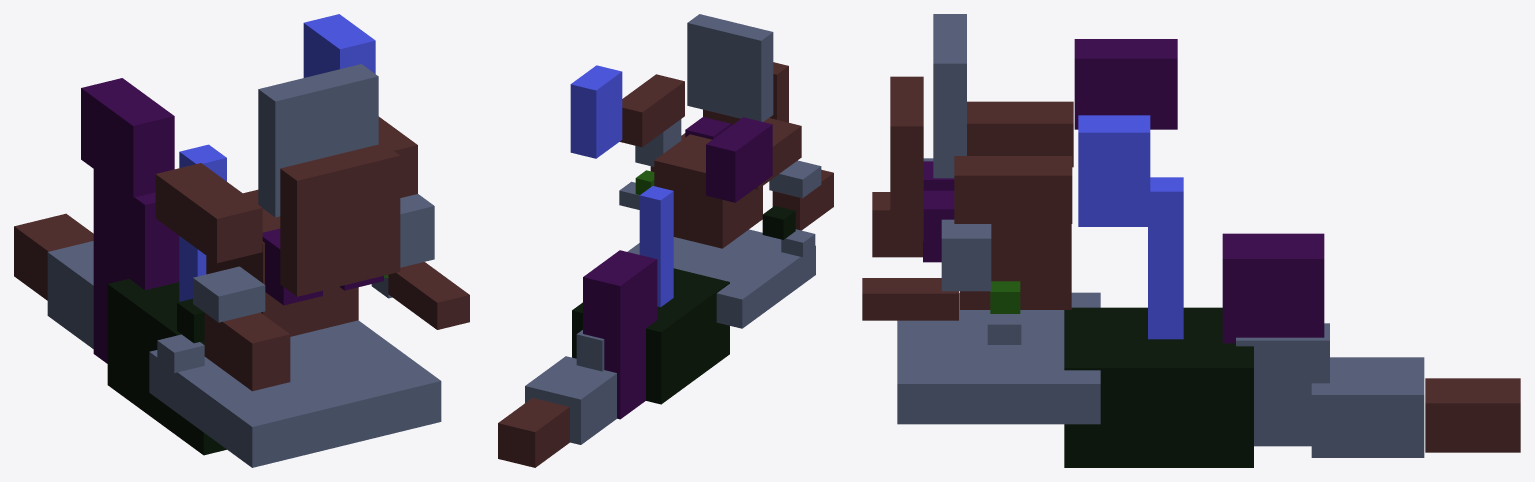
The model's file is BigBoss Crystal.FBX.
The picture shows the model from 3 angles, left to right: view 1: azimuth 30°, elevation 25°; view 2: azimuth 150°, elevation 25°; view 3: azimuth 270°, elevation 25°; orthographic projection. The views are drawn at different scales.
Visible parts, largest first — view 1: Box012, Box025, Box002, Box019, Box016, Box013, Box003, Box011, Box001, Box014, Box010, Box017 (+8 smaller); view 2: Box019, Box013, Box002, Box012, Box001, Box014, Box016, Box017, Box015, Box004, Box018, Box011 (+10 smaller); view 3: Box013, Box012, Box014, Box019, Box016, Box017, Box004, Box020, Box015, Box001, Box003, Box018 (+8 smaller).
Part boxes in pixels (x1,y1,x2,y2): Box012: [149, 320, 441, 467]; Box025: [280, 143, 400, 296]; Box002: [258, 64, 378, 217]; Box019: [93, 169, 179, 363]; Box016: [81, 78, 174, 197]; Box013: [107, 279, 226, 455]; Box003: [155, 163, 262, 263]; Box011: [204, 312, 290, 391]; Box001: [206, 189, 358, 336]; Box014: [47, 241, 93, 348]; Box010: [388, 262, 469, 329]; Box017: [303, 14, 375, 77]; Box019: [583, 250, 657, 419]; Box013: [572, 268, 729, 404]; Box002: [687, 14, 773, 121]; Box012: [627, 229, 815, 328]; Box001: [654, 134, 762, 248]; Box014: [525, 356, 616, 444]; Box016: [706, 117, 772, 202]; Box017: [570, 65, 622, 158]; Box015: [498, 398, 569, 467]; Box004: [619, 74, 684, 147]; Box018: [639, 186, 673, 307]; Box011: [772, 169, 833, 230]; Box013: [1064, 307, 1253, 467]; Box012: [897, 292, 1100, 424]; Box014: [1311, 357, 1424, 457]; Box019: [1222, 233, 1324, 343]; Box016: [1074, 39, 1177, 129]; Box017: [1078, 115, 1150, 226]; Box004: [954, 156, 1072, 223]; Box020: [1236, 323, 1329, 446]; Box015: [1425, 378, 1520, 452]; Box001: [960, 224, 1071, 309]; Box003: [967, 101, 1073, 167]; Box018: [1148, 177, 1183, 339].
Bounding box in the file's own units: 63.4 × 144 × 95.78.
